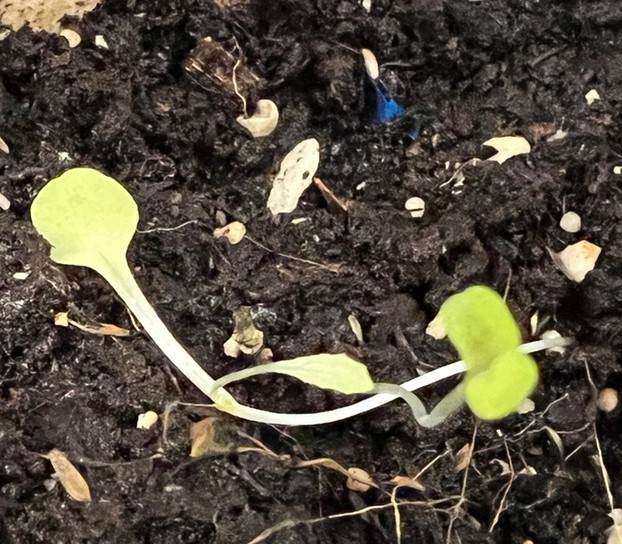week2: (7, 157, 232, 400), (193, 340, 382, 398)
